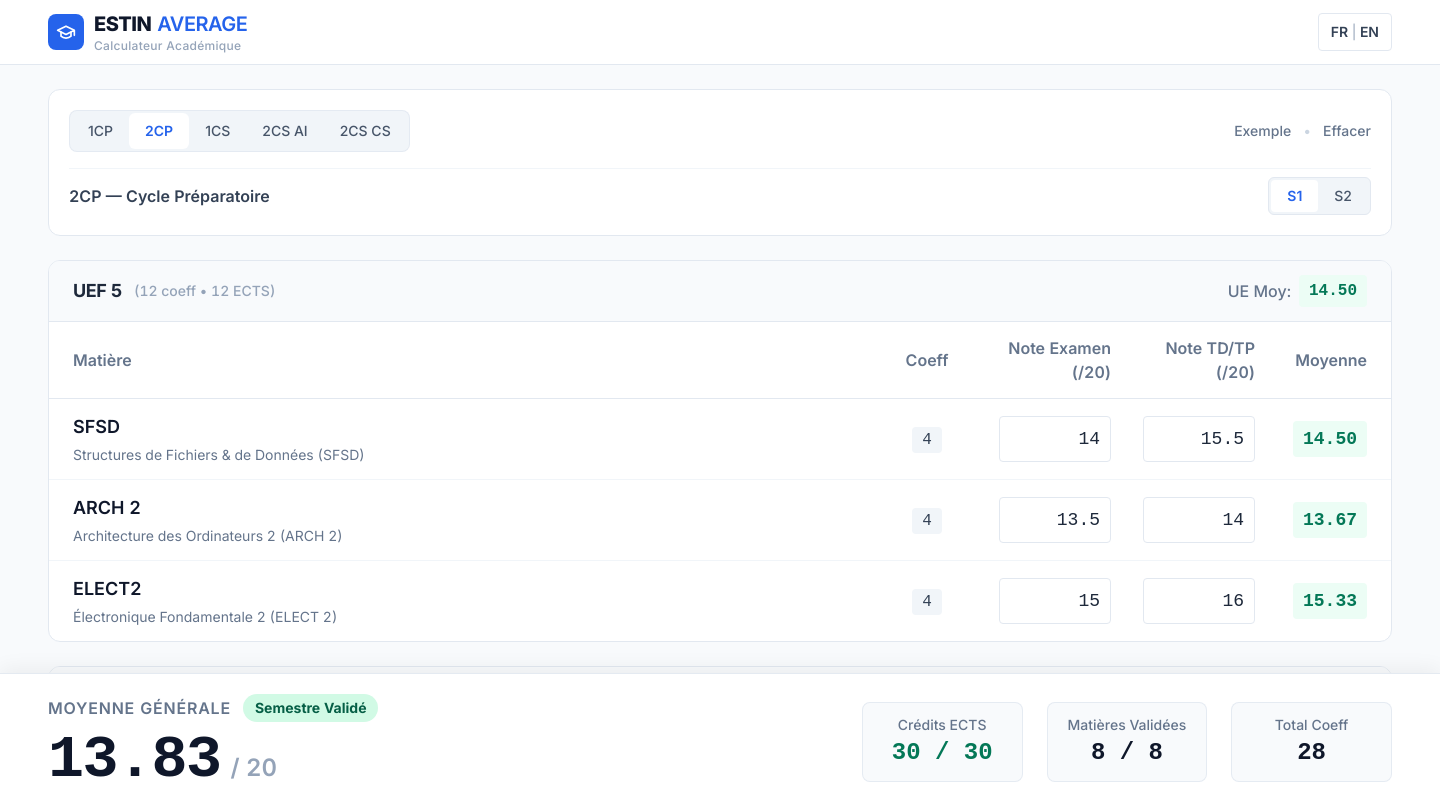
ESTIN Average Application UI & Interactive QA › toggles bilingual language throughout the entire application
The width and height of the screenshot is (1440, 810).
Click the button with aria-label "Passer en anglais" at point(1355, 32), box [1318,13,1392,51]
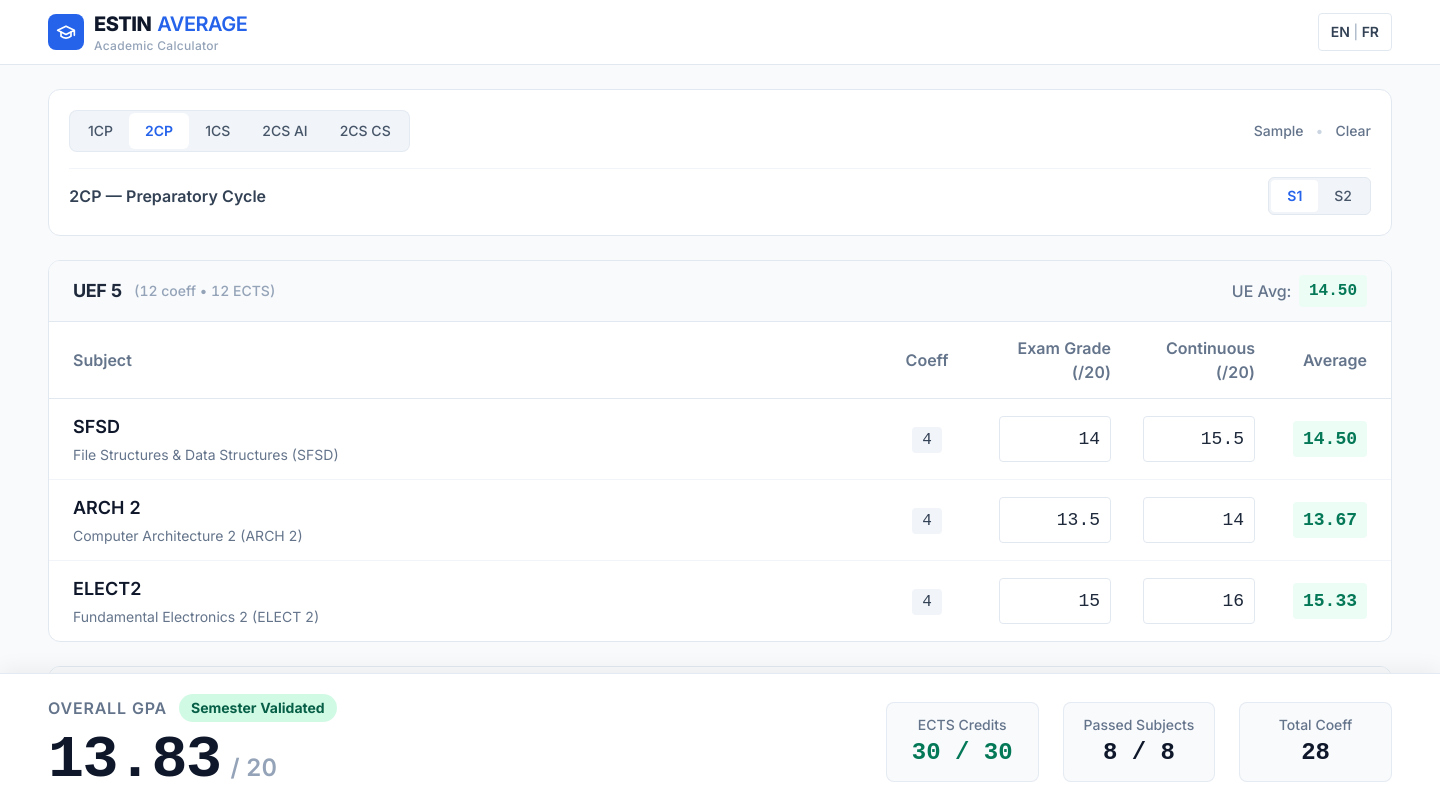
expect the text "Overall GPA" is shown: met, box [48,696,167,720]
expect the text "ECTS Credits" is shown: met, box [918,716,1006,733]
expect the text "Passed Subjects" is shown: met, box [1084,715,1194,735]
Toggle back to French
Click the button with aria-label "Switch to French" at point(1355, 32), box [1318,13,1392,51]
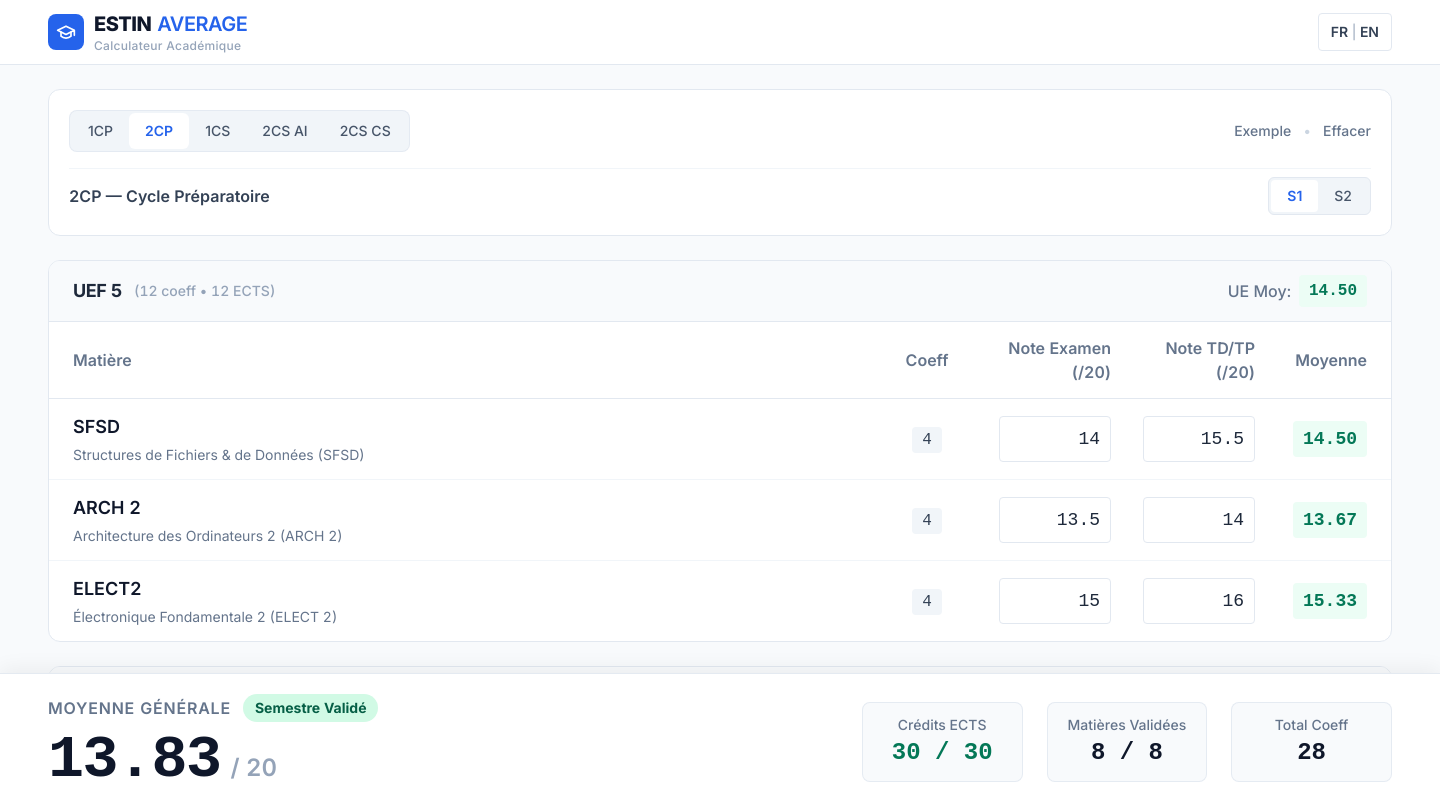
expect the text "Moyenne Générale" is shown: met, box [48,696,231,720]
expect the text "Crédits ECTS" is shown: met, box [898,716,986,733]
expect the text "Matières Validées" is shown: met, box [1068,715,1186,735]
